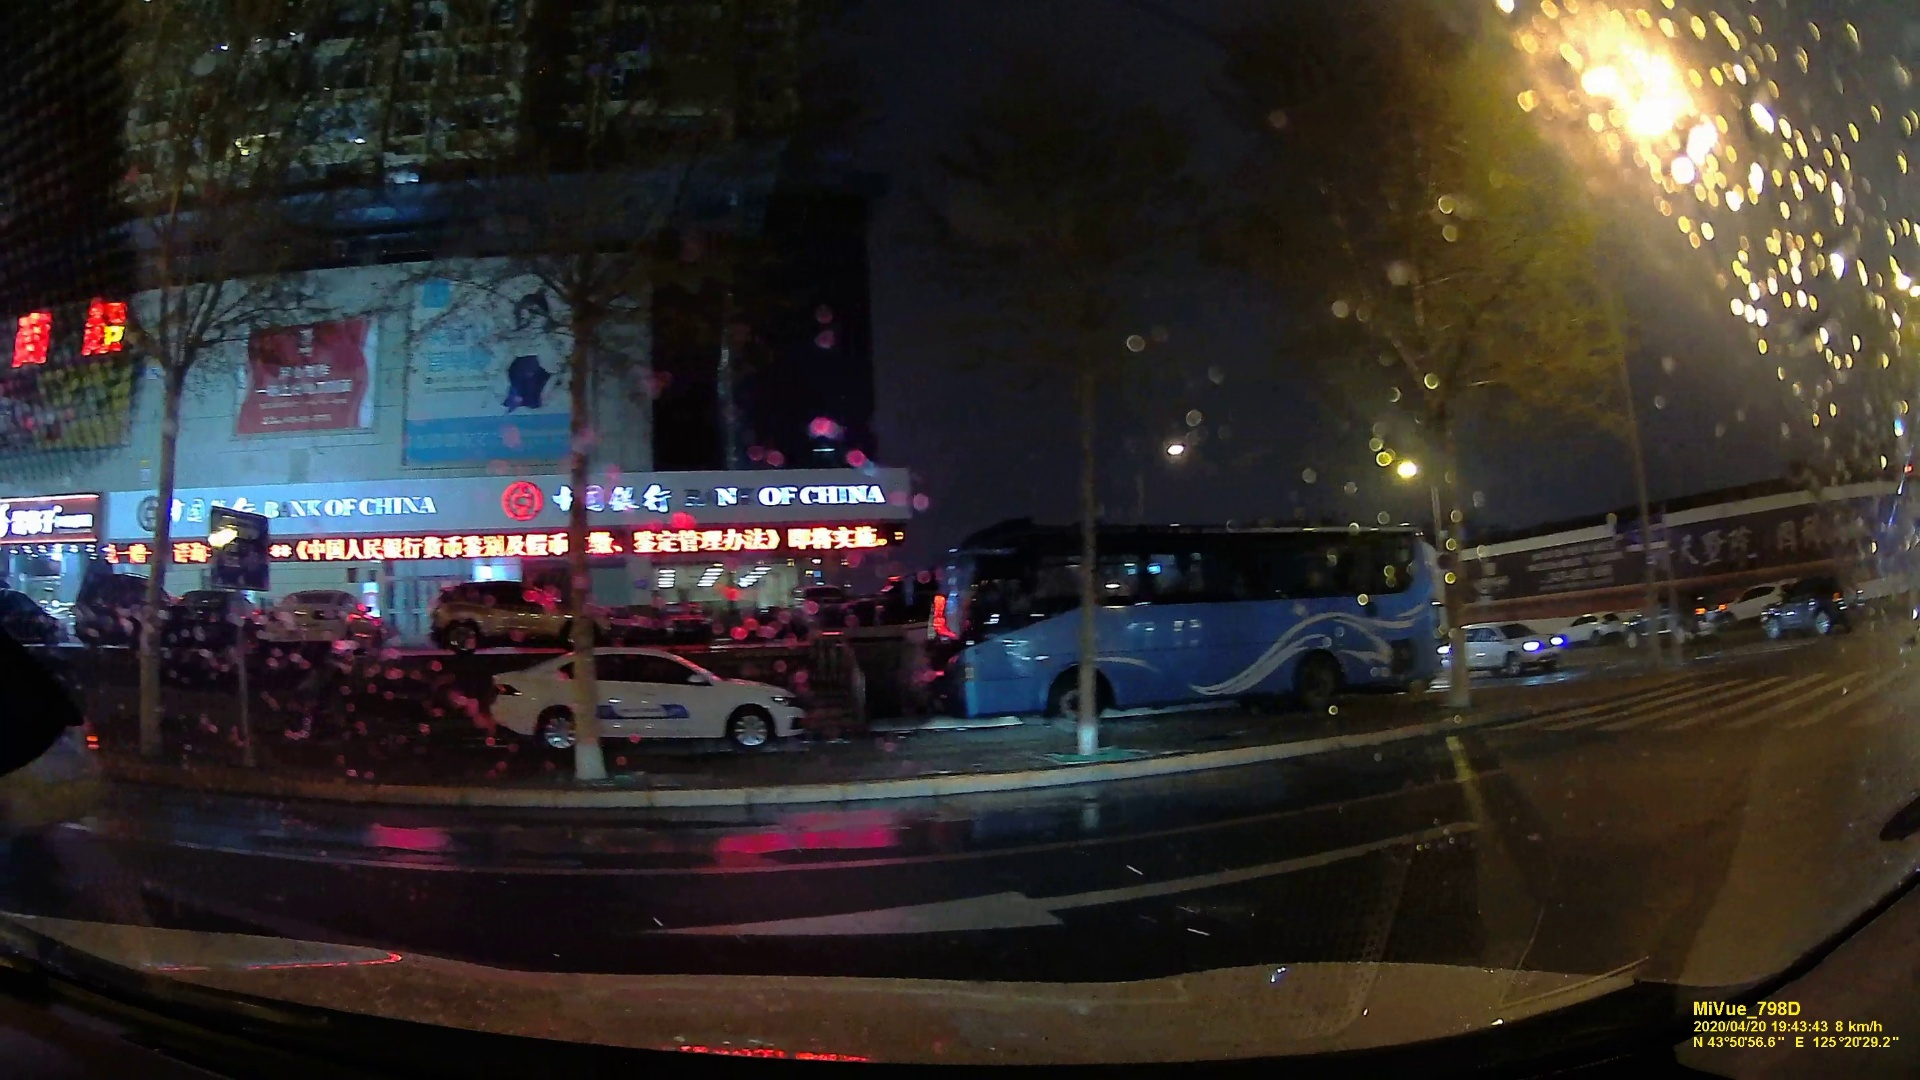bus: (932, 524, 1448, 712)
vehicle: (481, 647, 800, 760), (1456, 620, 1565, 674), (1766, 579, 1859, 637)
